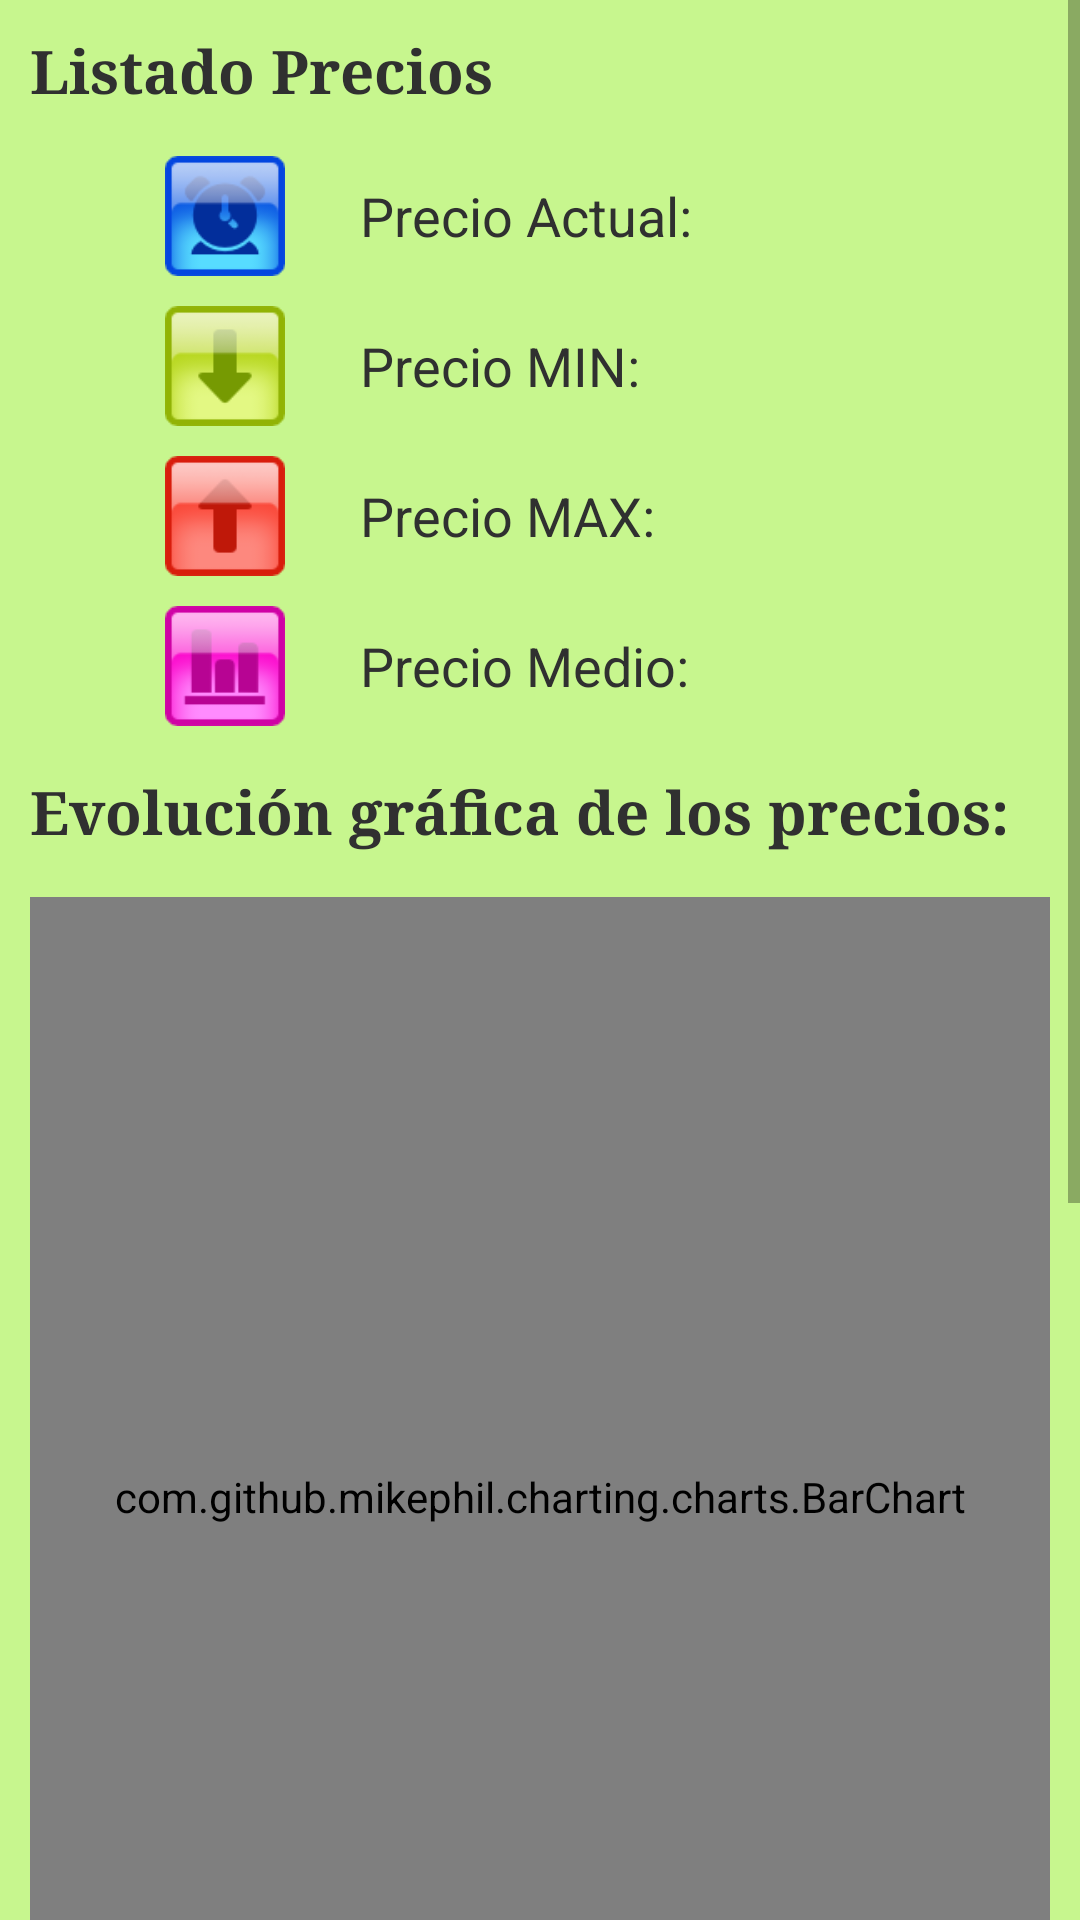

Named icons in this screenshot (1080 × 1920) and their centers, (x,y):
alarm: (225,216)
chart: (225,666)
down: (225,366)
